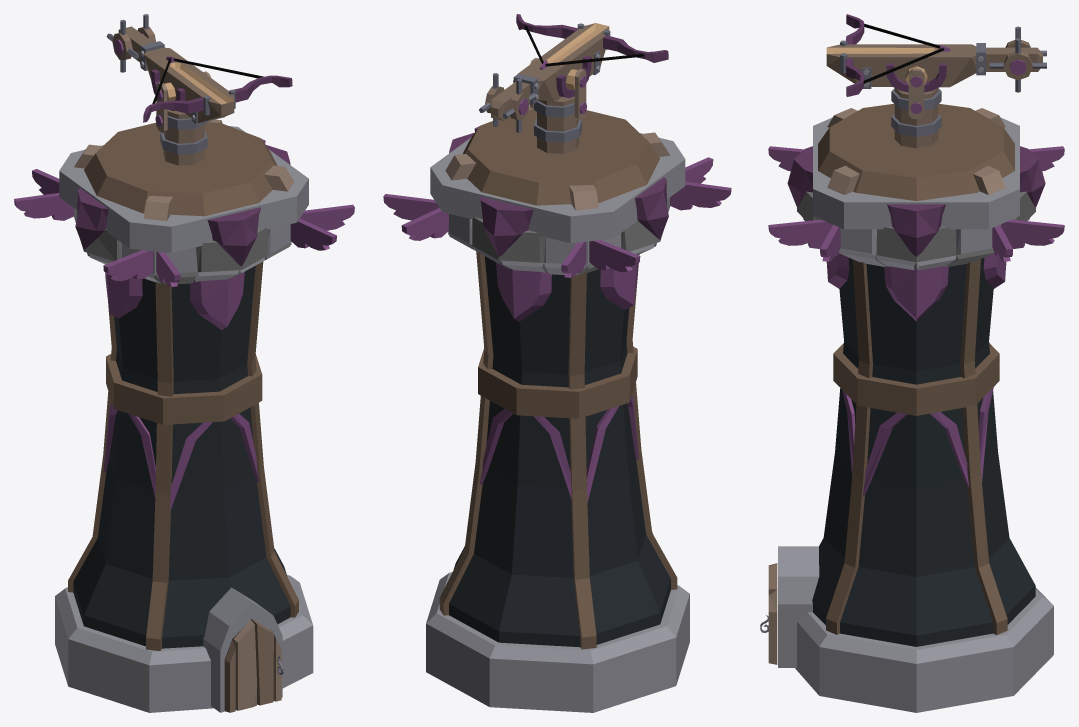
The model's file is Ballista_LVL2.fbx.
3 renders of one model, left to right at view 1: azimuth 30°, elevation 25°; view 2: azimuth 150°, elevation 25°; view 3: azimuth 270°, elevation 25°, orthographic. The views are drawn at different scales.
Visible parts, largest first — view 1: Ballista_tower_LVL_2.002, Ballista_tower_LVL_2.001; view 2: Ballista_tower_LVL_2.002, Ballista_tower_LVL_2.001; view 3: Ballista_tower_LVL_2.002, Ballista_tower_LVL_2.001.
Boxes of the visible parts, x1=… form: Ballista_tower_LVL_2.002: x1=14, y1=109, x2=354, y2=712; Ballista_tower_LVL_2.001: x1=106, y1=14, x2=292, y2=132; Ballista_tower_LVL_2.002: x1=383, y1=96, x2=731, y2=712; Ballista_tower_LVL_2.001: x1=479, y1=14, x2=668, y2=132; Ballista_tower_LVL_2.002: x1=760, y1=88, x2=1064, y2=712; Ballista_tower_LVL_2.001: x1=826, y1=14, x2=1046, y2=118.
Size of the model in its own units: 611 by 1413 by 628.
